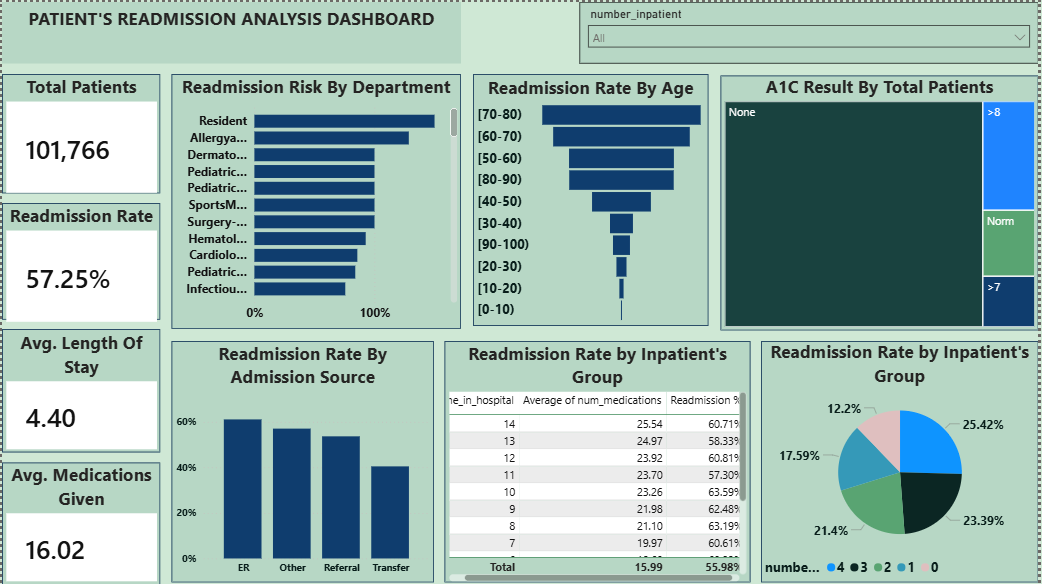

This screenshot's page, from the dashboard's own definition file:
{"tool":"powerbi","page":{"name":"Page 1","canvas":[1280,720],"ordinal":0},"visuals":[{"type":"shape","box":[209.3,88.9,357.4,314.8],"z":0},{"type":"shape","box":[581.5,88.9,290.7,311.1],"z":1000},{"type":"shape","box":[887,90.7,392.6,314.8],"z":2000},{"type":"shape","box":[546.3,418.5,377.8,298.1],"z":3000},{"type":"shape","box":[937,418.5,342.6,298.1],"z":4000},{"type":"shape","box":[209.3,418.5,324.1,298.1],"z":5000},{"type":"shape","box":[0,89.4,195.5,147.4],"z":6000},{"type":"shape","box":[0,404.2,195.5,152.4],"z":7000},{"type":"shape","box":[0,248.5,195.5,144.1],"z":8000},{"type":"shape","box":[0,568.2,195.5,152.4],"z":9000},{"type":"cardVisual","title":"Total Patients","fields":{"Data":["Analytics Measures.Total Patients"]},"box":[0,88.9,196.3,151.9],"z":10000},{"type":"cardVisual","title":"Readmission Rate","fields":{"Data":["Analytics Measures.Readmission %"]},"box":[0,248.1,196.3,151.9],"z":11000},{"type":"clusteredBarChart","title":"Readmission Risk By Department","fields":{"Y":["Analytics Measures.Readmission %"],"Category":["Worksheet.medical_specialty"]},"box":[209.3,88.9,357.4,314.8],"z":12000},{"type":"funnel","title":"Readmission Rate By Age","fields":{"Category":["Worksheet.age"],"Y":["CountNonNull(Worksheet.num_medications)"]},"box":[581.5,90.7,290.7,309.3],"z":13000},{"type":"treemap","title":"A1C Result By Total Patients","fields":{"Values":["Analytics Measures.Total Patients"],"Group":["Worksheet.A1Cresult"]},"box":[887,88.9,392.6,316.7],"z":14000},{"type":"clusteredColumnChart","title":"Readmission Rate By Admission Source","fields":{"Y":["Analytics Measures.Readmission %"],"Category":["Worksheet.admission_source_id 2"]},"box":[209.3,418.5,324.1,298.1],"z":15000},{"type":"pieChart","title":"Readmission Rate by  Inpatient''s Group","fields":{"Category":["Worksheet.number_inpatient"],"Y":["Analytics Measures.Readmission %"]},"box":[937,416.7,342.6,301.9],"z":16000},{"type":"tableEx","title":"Average num. Of Medication by Time In Hospital","fields":{"Values":["Worksheet.time_in_hospital","Avg(Worksheet.num_medications)","Analytics Measures.Readmission %"]},"box":[546.3,418.5,377.8,301.9],"z":17000},{"type":"cardVisual","title":"Avg. Length Of Stay (Days)","fields":{"Data":["Analytics Measures.Avg Time in Hospital"]},"box":[0,405.6,196.3,151.9],"z":18000},{"type":"cardVisual","title":"Avg. Amount of Medications Given","fields":{"Data":["Analytics Measures.Avg Medications"]},"box":[0,568.5,196.3,151.9],"z":19000},{"type":"slicer","fields":{"Values":["Worksheet.number_inpatient"]},"box":[713,0,566.7,75.9],"z":20000},{"type":"textbox","box":[0,0,566.7,75.9],"z":20001}]}

Visuals, with their boxes in screenshot pixels (x1, y1, x2, y2), scaled from the page's 1280x720 canvas onto the 1042x584 screenshot:
shape: box(170, 72, 461, 327)
shape: box(473, 72, 710, 324)
shape: box(722, 74, 1041, 329)
shape: box(445, 339, 752, 581)
shape: box(763, 339, 1041, 581)
shape: box(170, 339, 434, 581)
shape: box(0, 73, 159, 192)
shape: box(0, 328, 159, 451)
shape: box(0, 202, 159, 318)
shape: box(0, 461, 159, 583)
"Total Patients" cardVisual: box(0, 72, 160, 195)
"Readmission Rate" cardVisual: box(0, 201, 160, 324)
"Readmission Risk By Department" clusteredBarChart: box(170, 72, 461, 327)
"Readmission Rate By Age" funnel: box(473, 74, 710, 324)
"A1C Result By Total Patients" treemap: box(722, 72, 1041, 329)
"Readmission Rate By Admission Source" clusteredColumnChart: box(170, 339, 434, 581)
"Readmission Rate by  Inpatient''s Group" pieChart: box(763, 338, 1041, 583)
"Average num. Of Medication by Time In Hospital" tableEx: box(445, 339, 752, 583)
"Avg. Length Of Stay (Days)" cardVisual: box(0, 329, 160, 452)
"Avg. Amount of Medications Given" cardVisual: box(0, 461, 160, 583)
slicer - Worksheet.number_inpatient: box(580, 0, 1041, 62)
textbox: box(0, 0, 461, 62)
